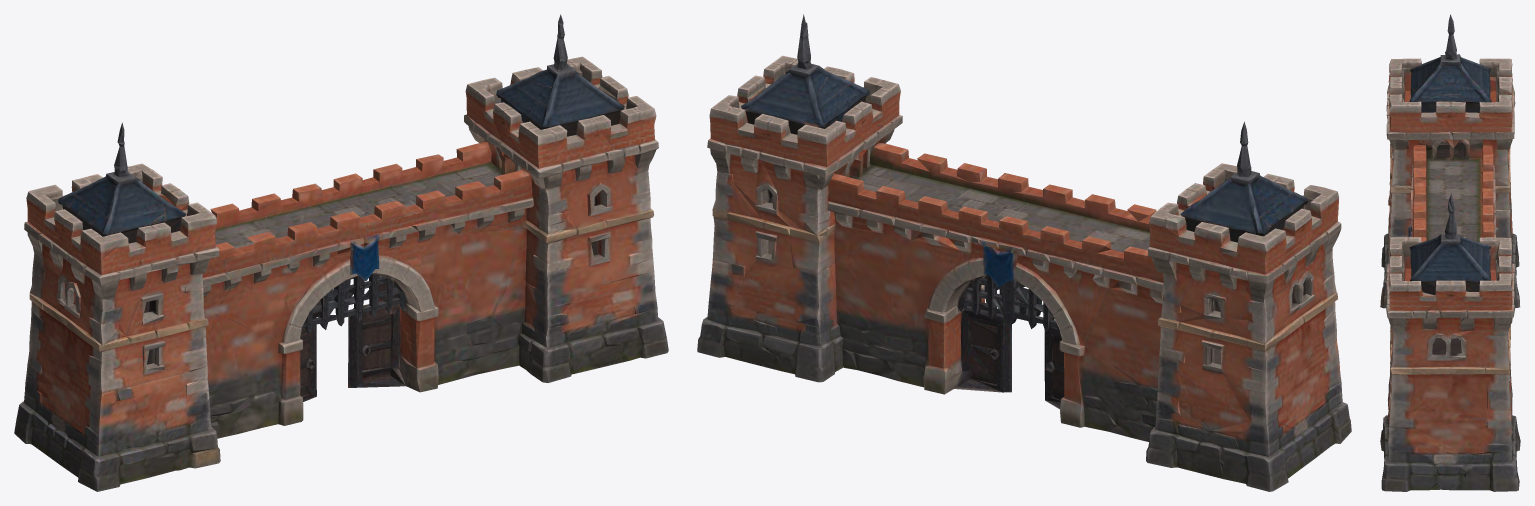
File: gatehouse.glb
The picture shows the model from 3 angles, left to right: view 1: azimuth 30°, elevation 25°; view 2: azimuth 150°, elevation 25°; view 3: azimuth 270°, elevation 25°; orthographic projection. The views are drawn at different scales.
Size of the model in its own units: 1.9 by 1.02 by 0.4773.
1 material, 1 textured.
